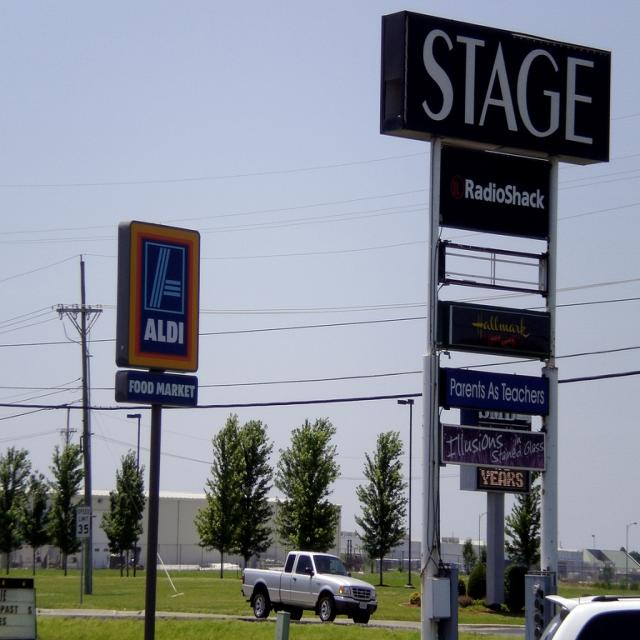aldi: (127, 222, 202, 372)
